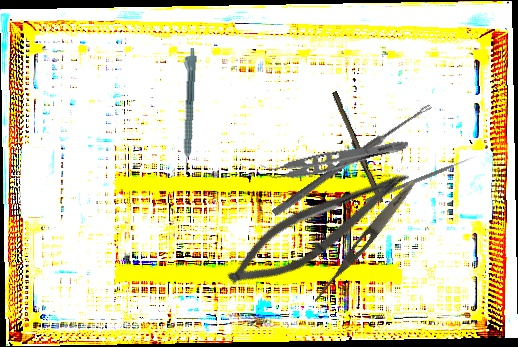Dressing Forceps: (310, 177, 419, 307)
Handpiece: (176, 47, 198, 173)
Micro Scissor: (217, 146, 419, 307)
Pusher: (364, 154, 477, 204)
Scalpel Handle: (328, 90, 386, 205)
Surgical Spoon: (271, 101, 433, 218)
Tissue Forceps: (259, 127, 410, 188)
